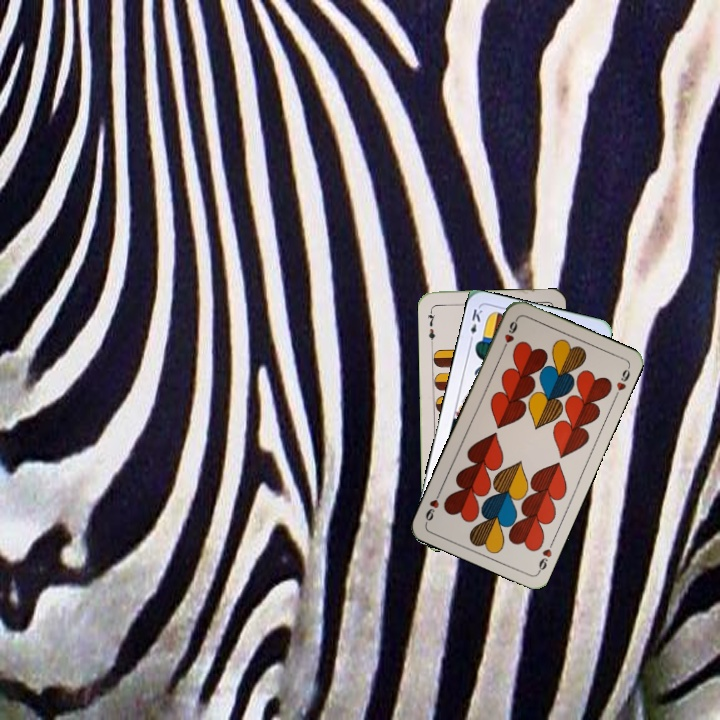E7: (423, 306, 438, 346)
EK: (465, 305, 485, 345)
H9: (534, 536, 557, 575), (499, 314, 521, 353)
